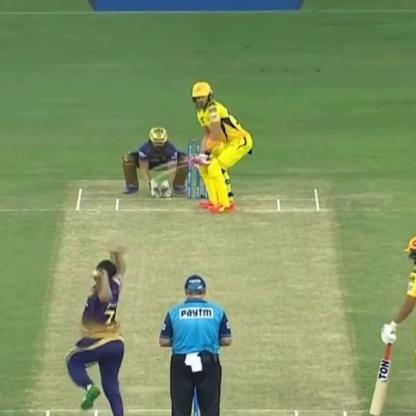ball: (84, 260, 103, 280)
pitch: (32, 184, 366, 416)
